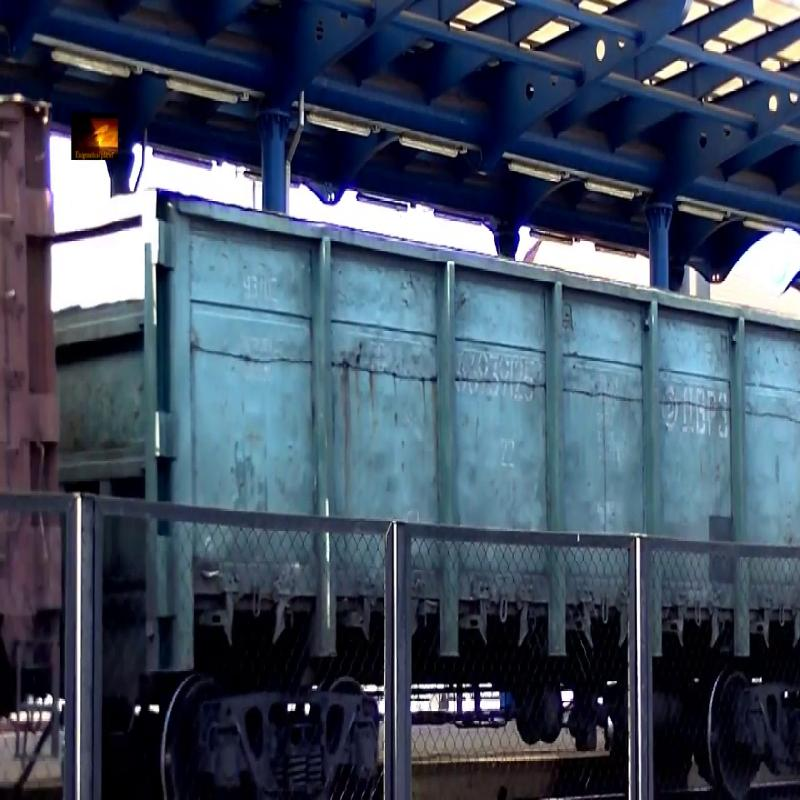train: (120, 49, 800, 773)
